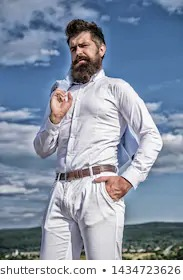F_belt: (48, 165, 120, 182)
F_shirt: (32, 75, 162, 188)
